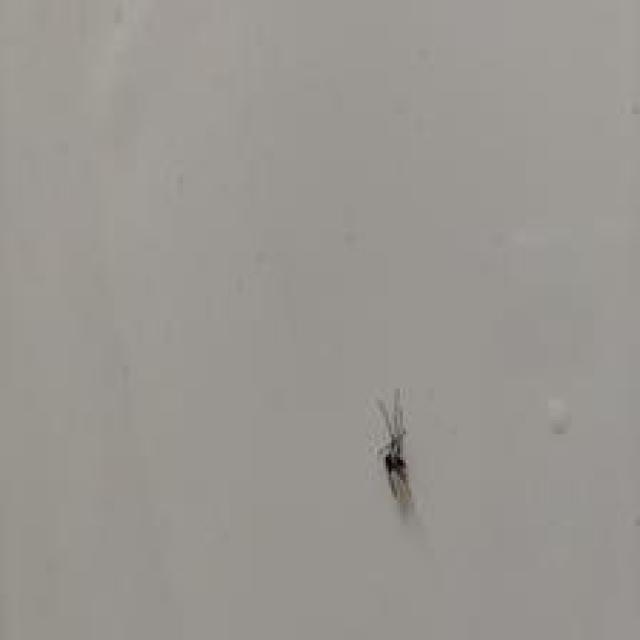Aedes albopictus: (373, 387, 416, 510)
